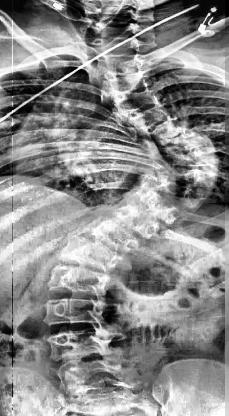Vertebrae: (42, 329, 128, 361), (41, 296, 117, 330), (58, 237, 138, 269), (40, 267, 114, 299), (80, 218, 148, 247), (97, 63, 165, 91), (109, 81, 167, 113), (127, 188, 187, 218), (103, 206, 166, 230), (156, 180, 214, 206), (169, 161, 221, 187), (124, 103, 174, 125), (98, 50, 146, 70), (170, 145, 220, 164), (165, 129, 208, 151), (147, 119, 193, 139)
